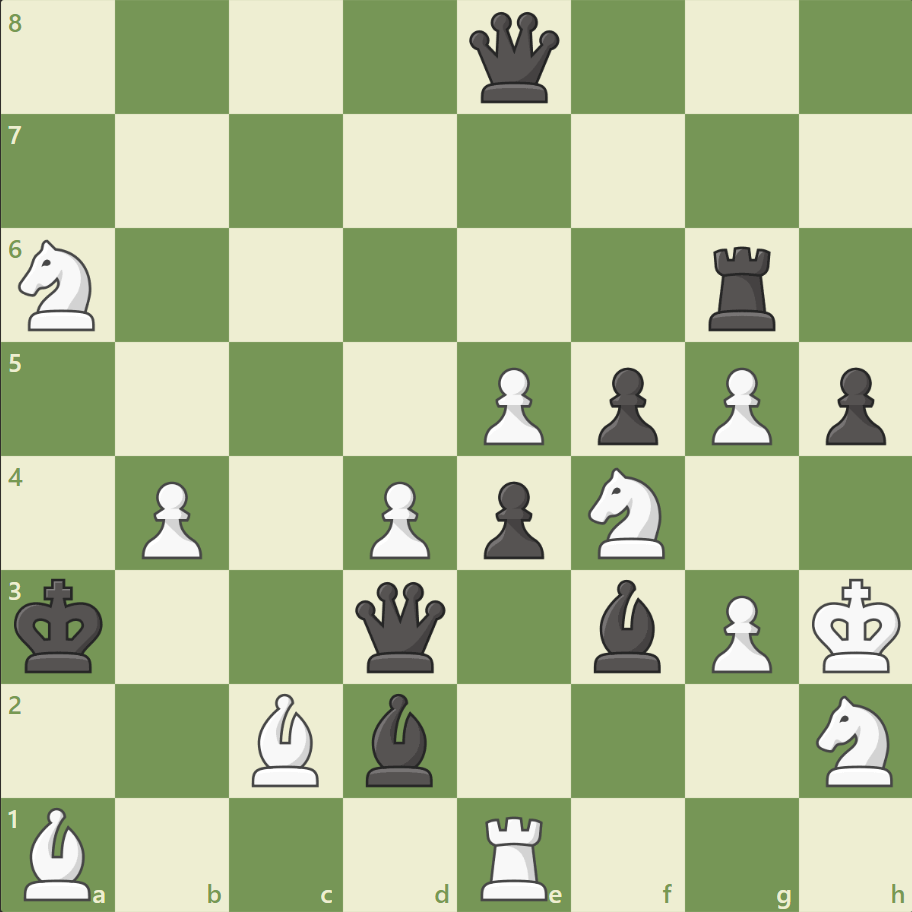B: (244, 687, 328, 790), (17, 801, 101, 904)
K: (806, 571, 906, 679)
N: (11, 234, 108, 337), (579, 461, 676, 564), (806, 688, 903, 791)
P: (474, 359, 549, 450), (701, 359, 776, 450), (133, 473, 208, 564), (701, 586, 776, 677), (361, 473, 435, 564)
R: (473, 806, 556, 904)
b: (358, 687, 442, 790), (585, 574, 669, 676)
k: (11, 571, 111, 679)
p: (474, 473, 549, 564), (588, 359, 662, 450), (815, 359, 889, 450)
q: (351, 576, 450, 676), (464, 9, 563, 108)
r: (700, 239, 783, 336)
